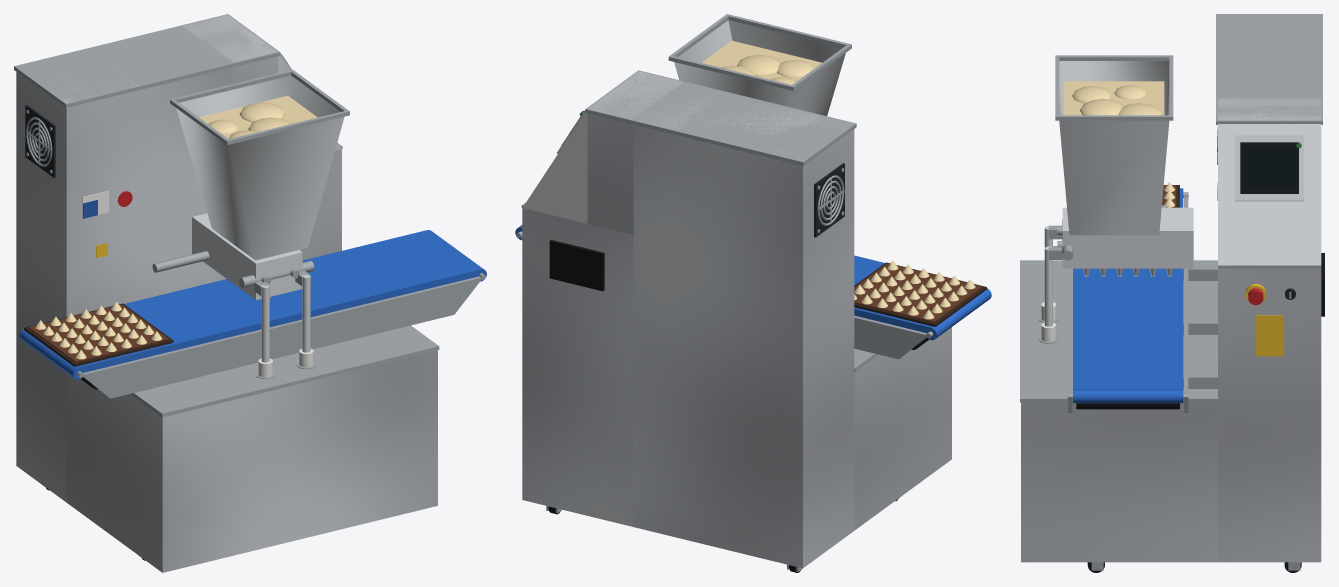
Rendered from cookie-machine-s400.glb.
3 views of the same model, side by side, from view 1: azimuth 30°, elevation 25°; view 2: azimuth 150°, elevation 25°; view 3: azimuth 270°, elevation 25° (orthographic). The views are drawn at different scales.
Parts seen in each view (by area): view 1: тумба, щиток слева, Отсадочная машина S400, бункер, лента, щека ленты, головка, щиток справа верх, коврик, щиток справа, тесто, решётка вентилятора (+1 smaller); view 2: щиток слева, щиток справа, Отсадочная машина S400, тумба, щиток справа верх, бункер, скос, коврик, шильдик, щека ленты, тесто, лента (+2 smaller); view 3: Отсадочная машина S400, тумба, щиток справа, бункер, лента, скос, головка, info-screen, щиток справа верх, рамка панели, тесто, щека ленты (×2) (+1 smaller).
Part boxes in pixels (x1,y1,x2,y2): тумба: (66,350,437,572); щиток слева: (16,67,232,502); Отсадочная машина S400: (14,14,486,560); бункер: (176,75,344,260); лента: (79,230,479,372); щека ленты: (83,276,481,398); головка: (192,213,302,300); щиток справа верх: (183,15,277,83); коврик: (28,304,168,362); щиток справа: (300,149,341,260); тесто: (199,95,317,138); решётка вентилятора: (25,105,55,177); щиток слева: (633,87,854,568); щиток справа: (522,208,633,526); Отсадочная машина S400: (515,14,991,572); тумба: (854,327,951,530); щиток справа верх: (587,71,683,234); бункер: (674,20,845,115); скос: (523,113,587,223); коврик: (854,263,982,322); шильдик: (549,240,604,291); щека ленты: (520,235,926,359); тесто: (701,40,822,81); лента: (854,255,930,332); Отсадочная машина S400: (1020,14,1322,572); тумба: (1021,402,1217,562); щиток справа: (1218,268,1321,562); бункер: (1059,61,1169,235); лента: (1073,189,1183,389); скос: (1218,124,1321,264); головка: (1062,207,1193,268); info-screen: (1242,145,1297,190); щиток справа верх: (1218,98,1321,120); рамка панели: (1235,135,1304,201); тесто: (1064,81,1164,115); щека ленты (×2): (1068,196,1188,412).
Size of the model in its own units: 1.42 by 1.37 by 0.883.
